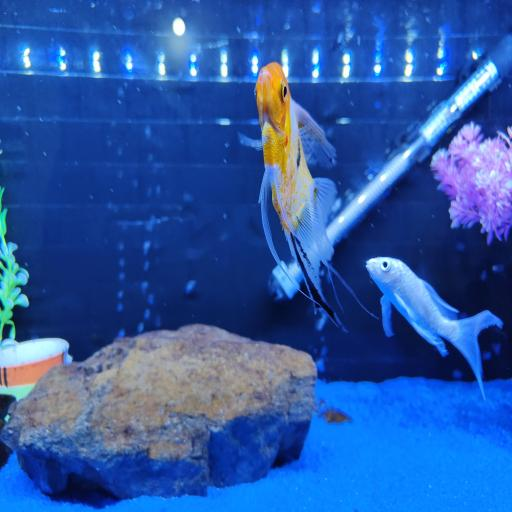Fish: (239, 63, 340, 324), (367, 257, 502, 398)
